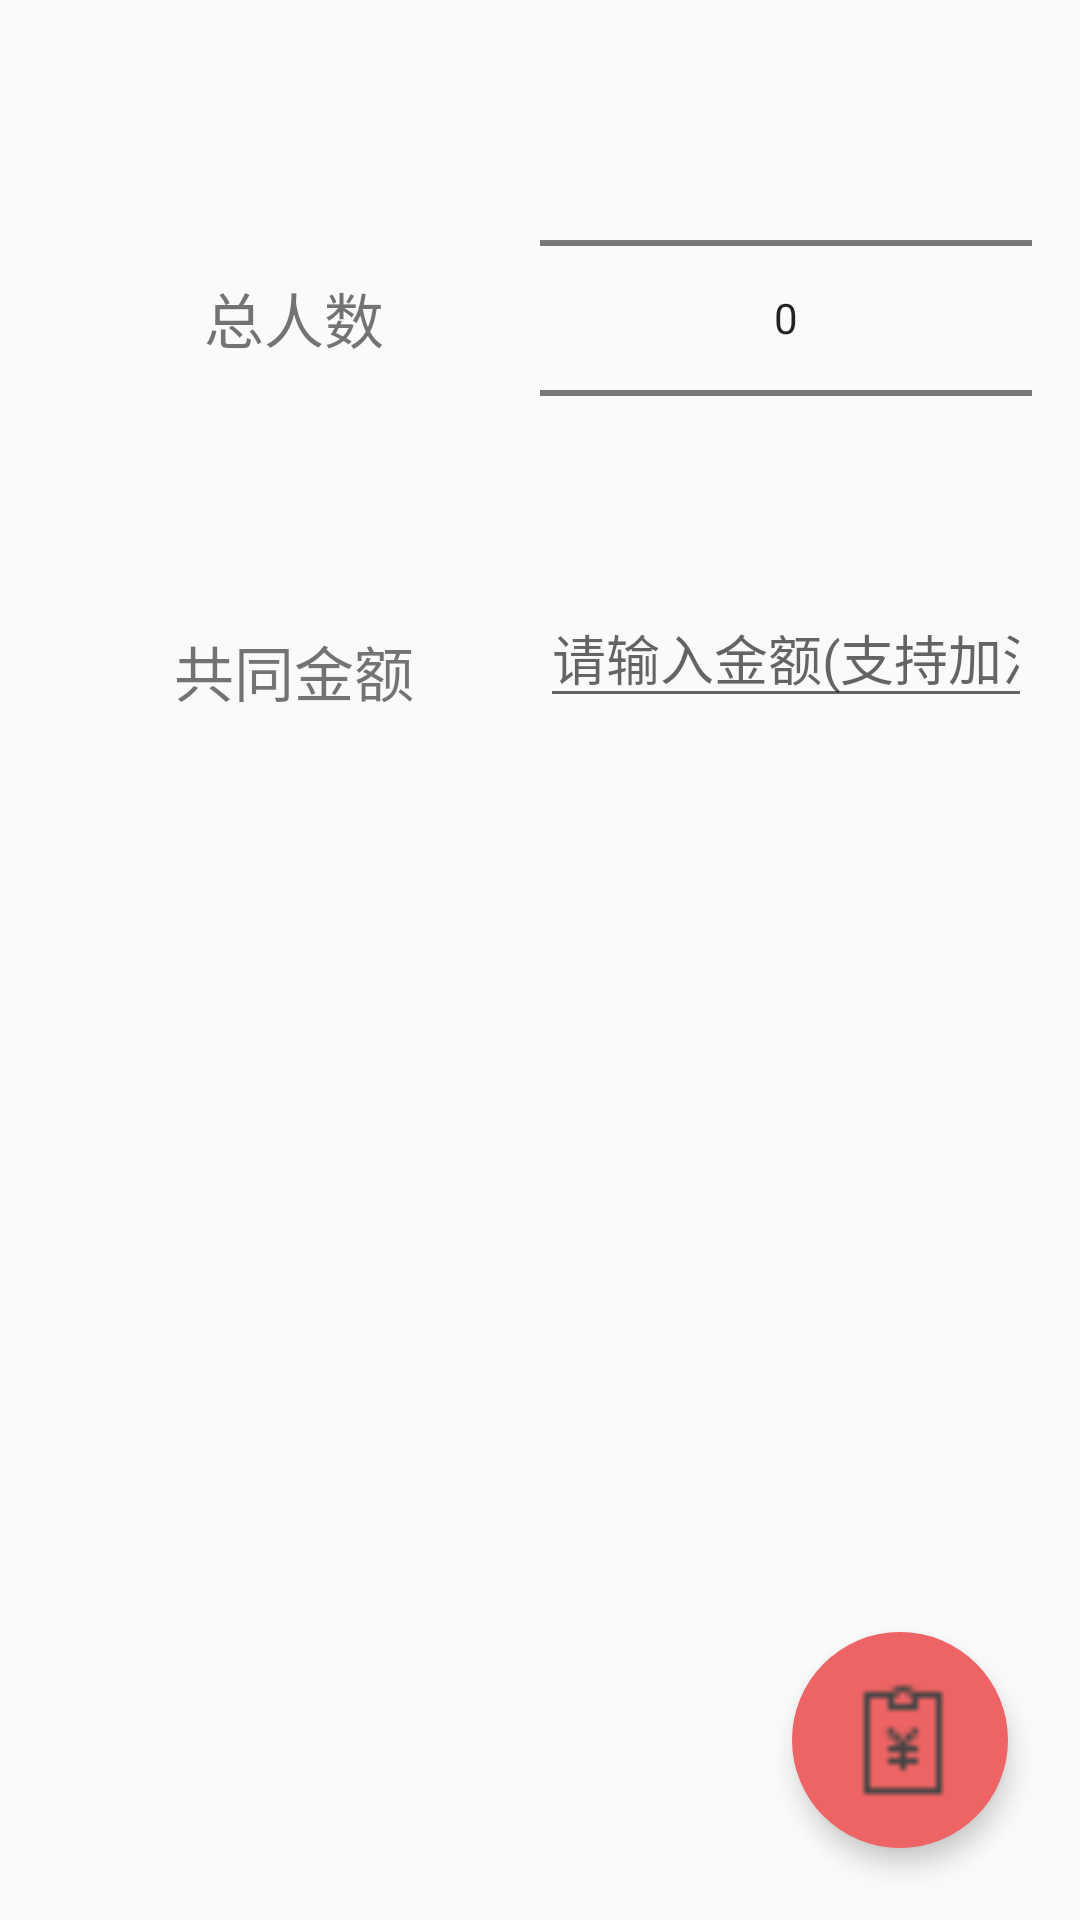

Icons on this 1080px x 1920px Android screen, each with its box as (x1, y1, x2, y2):
计算: (792, 1632, 1008, 1848)
